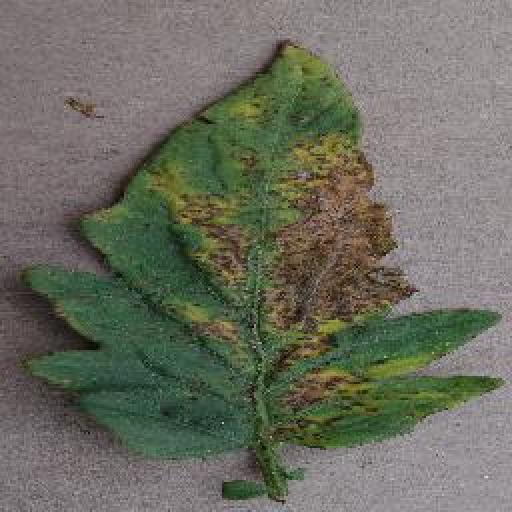Bacterial Spot: (20, 36, 507, 463)
